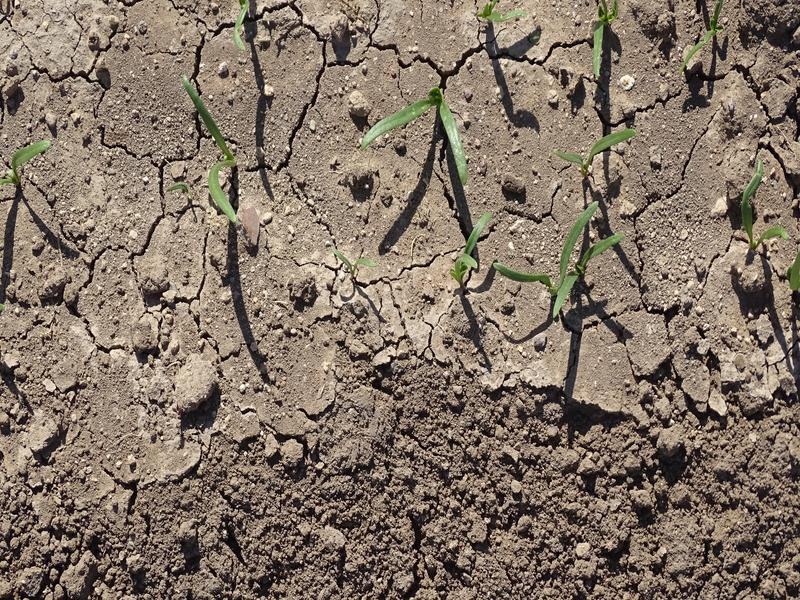Espinaca: (499, 196, 627, 318), (361, 89, 473, 184), (178, 74, 245, 224), (557, 126, 636, 177), (738, 168, 783, 251), (452, 209, 492, 280), (4, 137, 58, 184), (686, 11, 724, 74), (589, 9, 612, 78), (231, 1, 250, 56)
